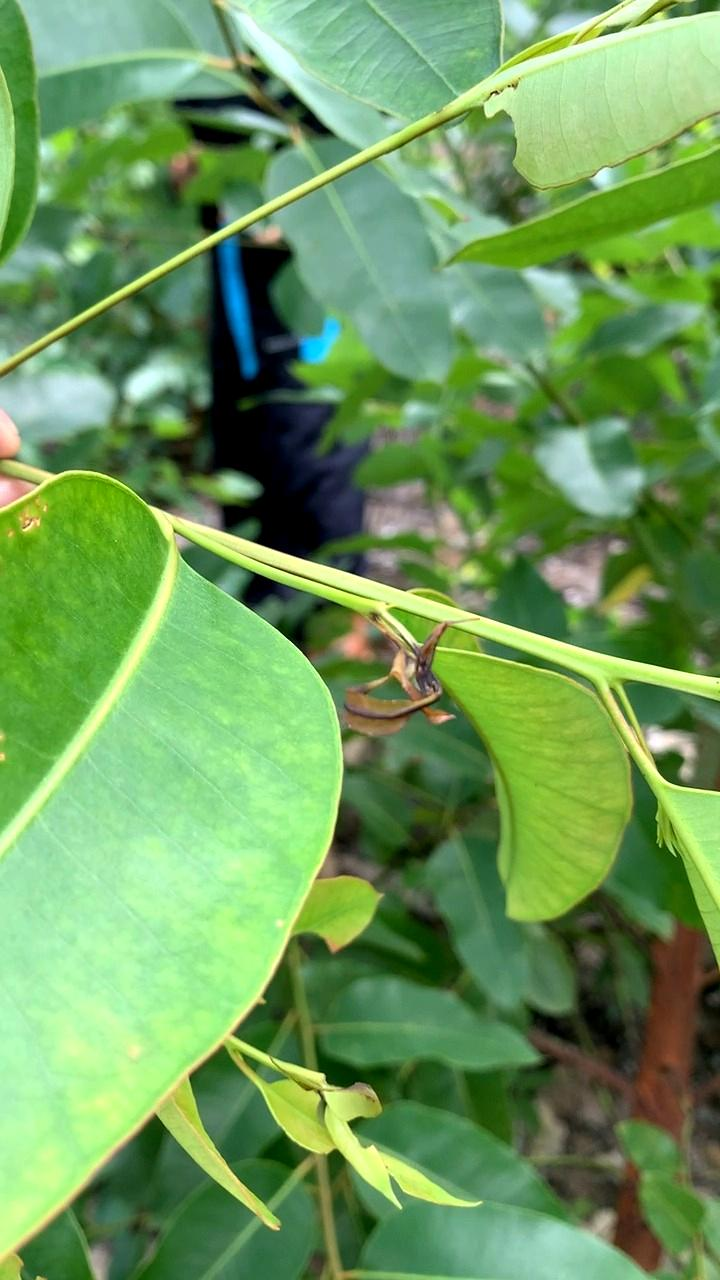Helopeltis-Withered Sprout: (325, 623, 479, 749)
